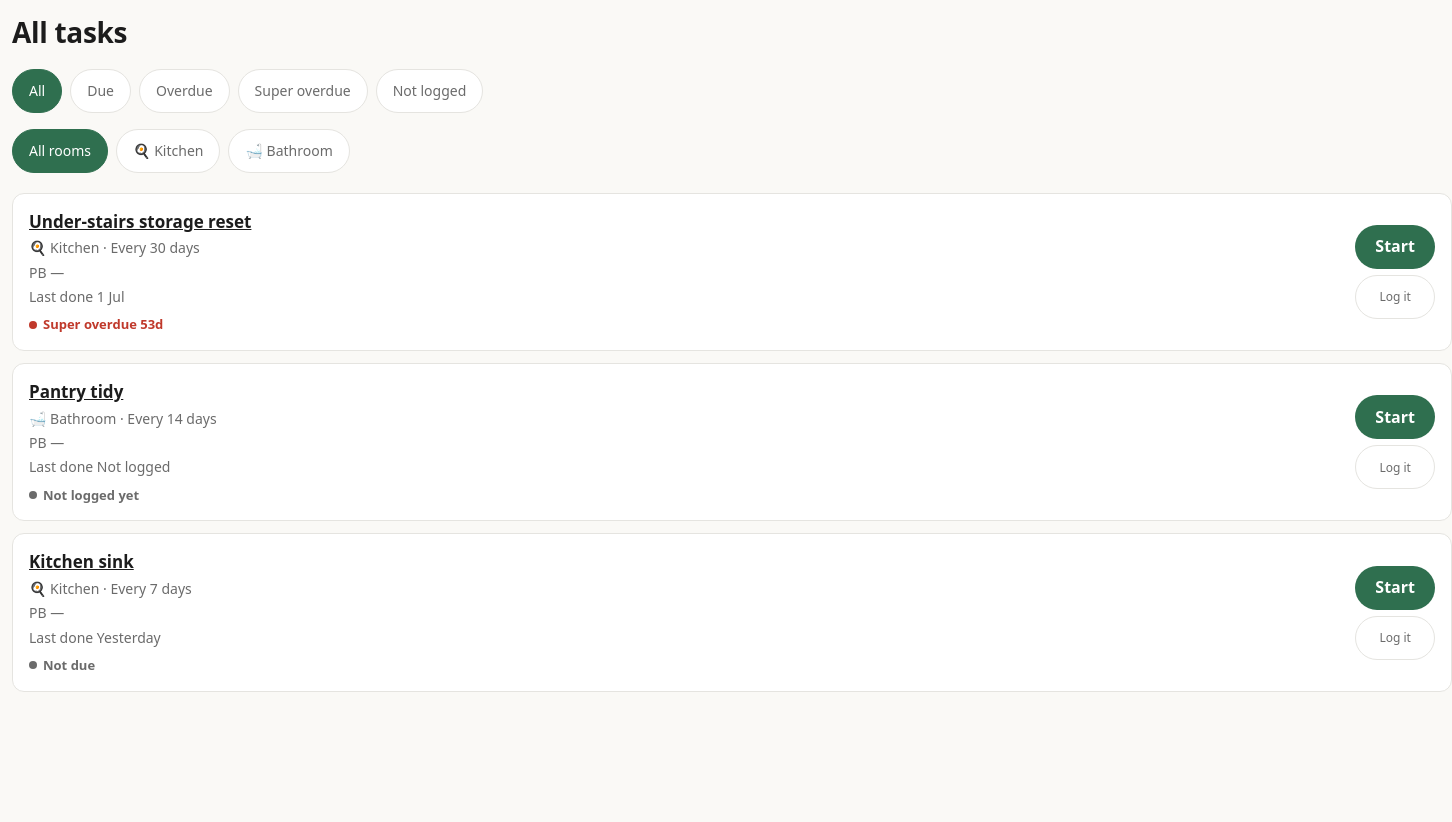
it: Tasks page › filters to only tasks with no logged completion
Expected: the link "Under-stairs storage reset" is shown, [29,210,251,233]
Click the button "Not logged" at (430, 91), box [376,69,483,113]
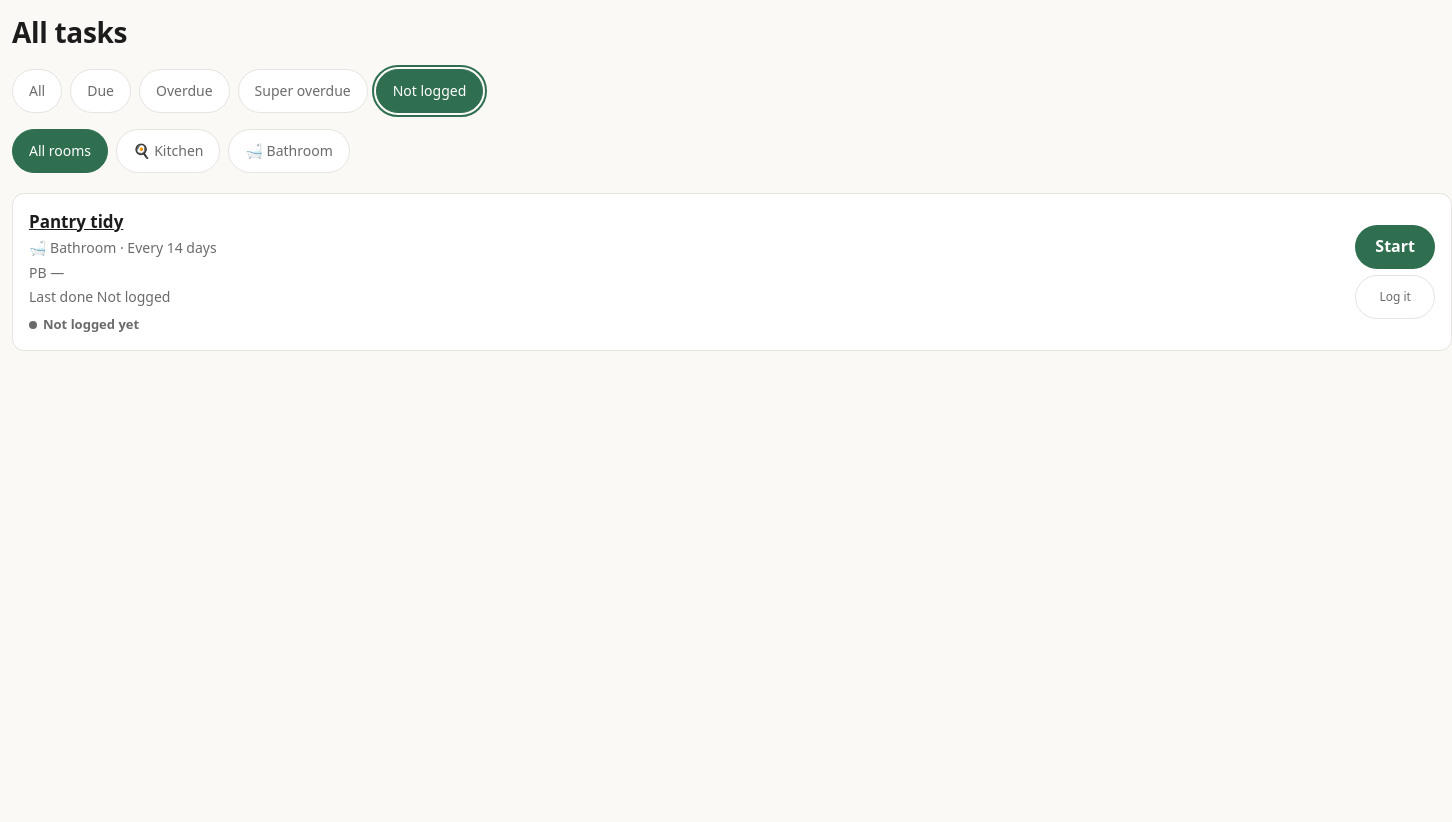
Expected: the link "Pantry tidy" is shown, [29,210,123,233]
Expected: the link "Under-stairs storage reset" is gone
Expected: the link "Kitchen sink" is gone
